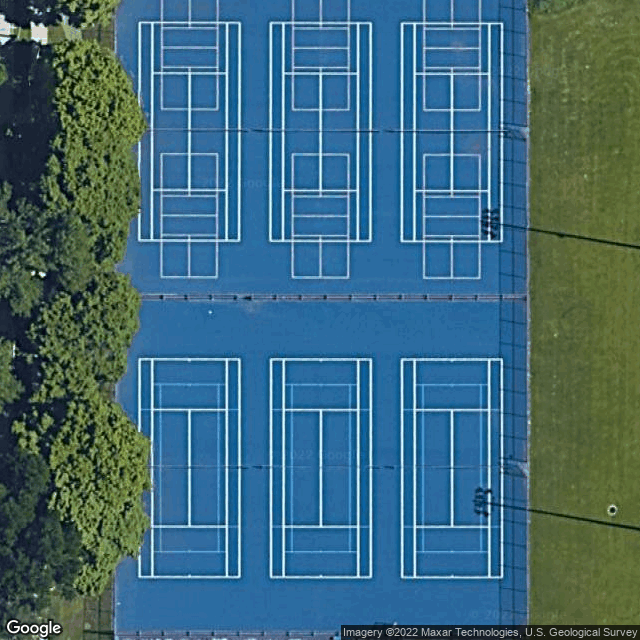Court: (266, 21, 374, 244), (398, 357, 506, 580), (266, 356, 373, 581), (136, 355, 242, 581), (136, 19, 243, 242), (398, 20, 504, 245)
